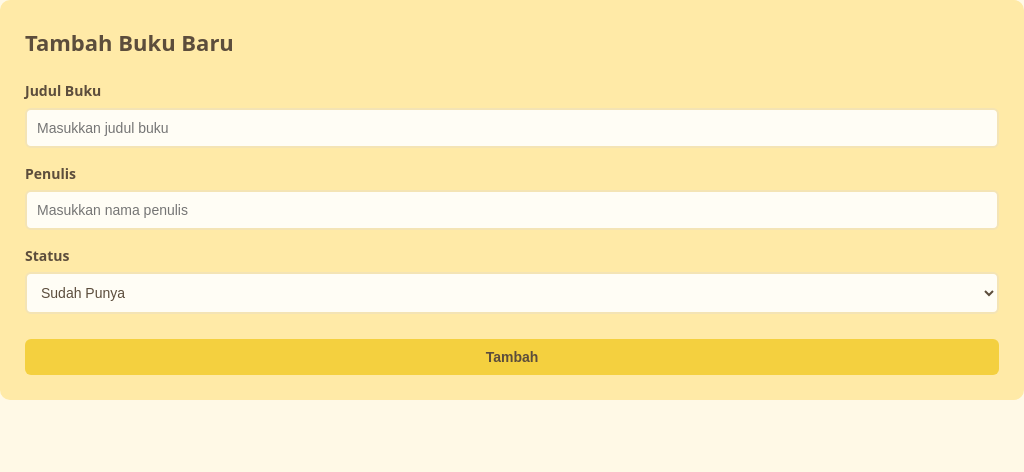
Scenario: BookForm Component › shows error when submitting empty form
The width and height of the screenshot is (1024, 472).
Click the button "Tambah".
click(512, 357)  # box [25,339,999,375]
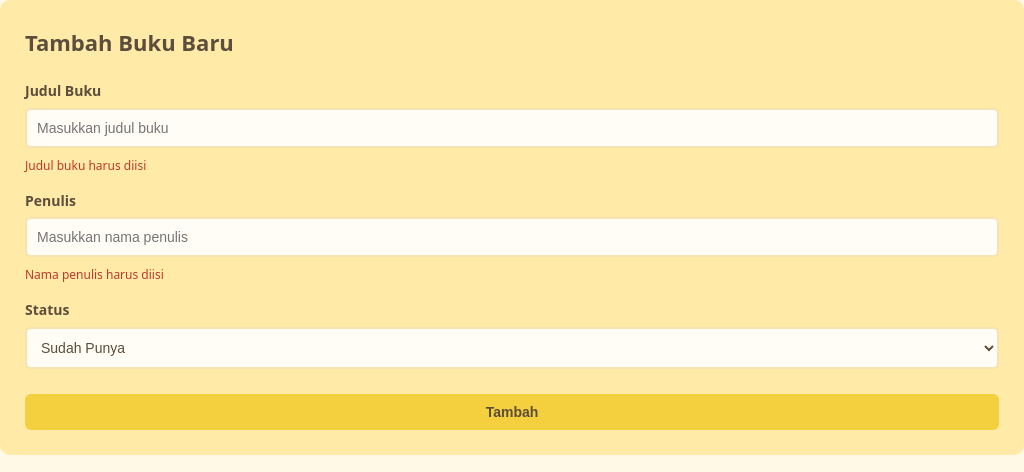
Expected: the text "Judul buku harus diisi" is shown, [25,157,146,174]
Expected: the text "Nama penulis harus diisi" is shown, [25,266,164,283]
